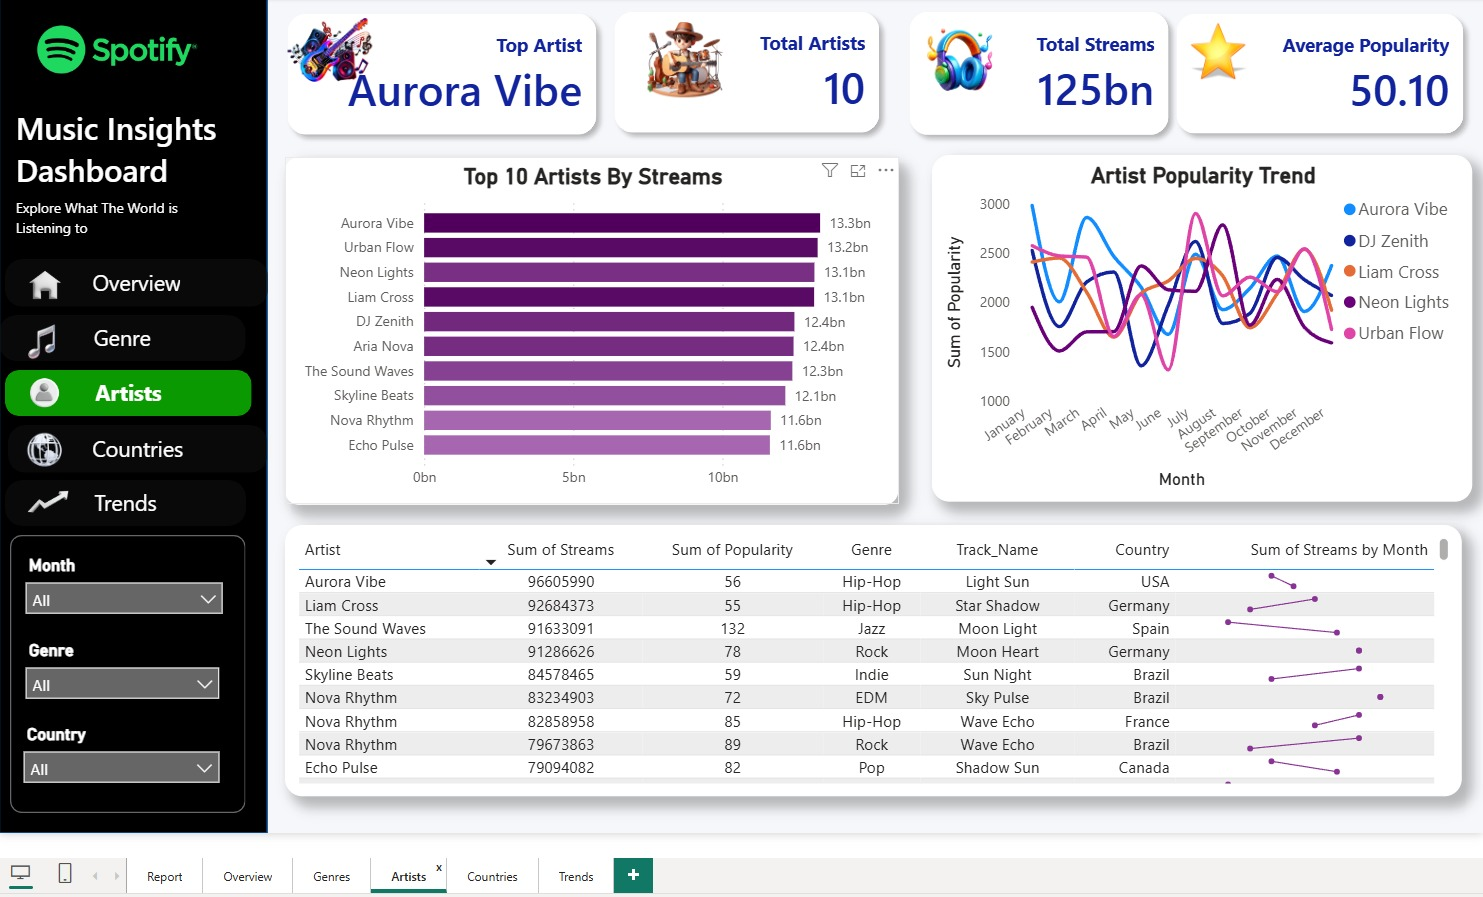

Layout of this report page (visuals, bound fields, positions):
{"tool":"powerbi","page":{"name":"Artists","canvas":[1280,720],"ordinal":3},"visuals":[{"type":"shape","box":[202.5,135,616.2,300],"z":0},{"type":"shape","box":[0,0,181,720.2],"z":1000},{"type":"image","box":[0,0,181,114.3],"z":2000},{"type":"textbox","box":[9.5,89.3,152.4,89.3],"z":3000},{"type":"textbox","box":[9.5,166.7,152.4,48.8],"z":4000},{"type":"cardVisual","fields":{"Data":["Spotify_Data.Total Streams"]},"box":[742,14.5,264.8,100.2],"z":5000},{"type":"cardVisual","fields":{"Data":["Spotify_Data.Average Popularity"]},"box":[1016.8,13.7,253.9,100.2],"z":6000},{"type":"cardVisual","fields":{"Data":["Spotify_Data.Total Artists"]},"box":[486.2,13.3,245.6,100.2],"z":7000},{"type":"clusteredBarChart","title":"Top 10 Artists By Streams","fields":{"Category":["Spotify_Data.Artist"],"Y":["Sum(Spotify_Data.Streams)"]},"box":[203,134.5,529.5,299.6],"z":8000},{"type":"lineChart","title":"Artist Popularity Trend","fields":{"Category":["Spotify_Data.Release_Date.Variation.Date Hierarchy.Month"],"Y":["Sum(Spotify_Data.Popularity)"],"Series":["Spotify_Data.Artist"]},"box":[761.8,134.5,508.7,299.6],"z":9000},{"type":"tableEx","fields":{"Values":["Spotify_Data.Artist","Sum(Spotify_Data.Streams)","Sum(Spotify_Data.Popularity)","Spotify_Data.Genre","Spotify_Data.Track_Name","Spotify_Data.Country","SparklineData(Sum(Spotify_Data.Streams)_[Spotify_Data.Release_Date.Variation.Date Hierarchy.Month])"]},"box":[202.7,454.8,1059.3,234],"z":10000},{"type":"actionButton","box":[10,225,152.5,40],"z":12000},{"type":"actionButton","box":[10,275,152.5,40],"z":13000},{"type":"actionButton","box":[10,320,152.5,40],"z":14000},{"type":"actionButton","box":[7.5,368.8,156.2,40],"z":15000},{"type":"actionButton","box":[10,415,152.5,40],"z":16000},{"type":"cardVisual","fields":{"Data":["Spotify_Data.Top Artist"]},"box":[203.1,13.7,251.1,100.2],"z":17000}]}

Visuals, with their boxes on the page's 1280x720 design canvas (x1, y1, x2, y2). These are canvas units, not pixel positions in the 1483x897 screenshot, which may show the page scaled, cropped or inside an application window:
shape: <bbox>202, 135, 819, 435</bbox>
shape: <bbox>0, 0, 181, 720</bbox>
image: <bbox>0, 0, 181, 114</bbox>
textbox: <bbox>10, 89, 162, 179</bbox>
textbox: <bbox>10, 167, 162, 216</bbox>
cardVisual - Spotify_Data.Total Streams: <bbox>742, 14, 1007, 115</bbox>
cardVisual - Spotify_Data.Average Popularity: <bbox>1017, 14, 1271, 114</bbox>
cardVisual - Spotify_Data.Total Artists: <bbox>486, 13, 732, 114</bbox>
"Top 10 Artists By Streams" clusteredBarChart: <bbox>203, 134, 732, 434</bbox>
"Artist Popularity Trend" lineChart: <bbox>762, 134, 1270, 434</bbox>
tableEx - Spotify_Data.Artist x Sum(Spotify_Data.Streams): <bbox>203, 455, 1262, 689</bbox>
actionButton: <bbox>10, 225, 162, 265</bbox>
actionButton: <bbox>10, 275, 162, 315</bbox>
actionButton: <bbox>10, 320, 162, 360</bbox>
actionButton: <bbox>8, 369, 164, 409</bbox>
actionButton: <bbox>10, 415, 162, 455</bbox>
cardVisual - Spotify_Data.Top Artist: <bbox>203, 14, 454, 114</bbox>
